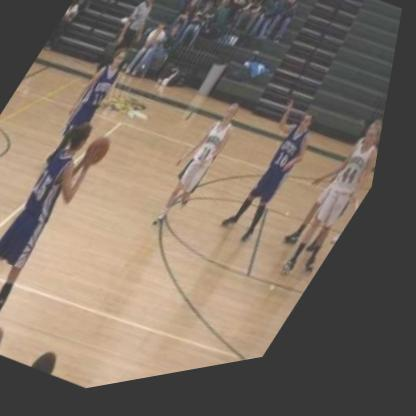basketball: (79, 131, 127, 180)
